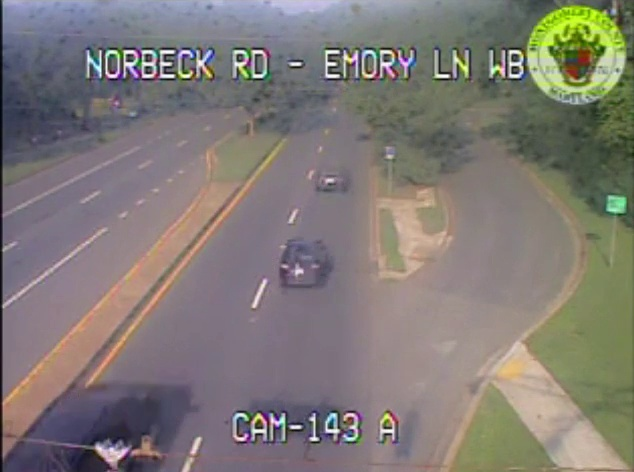car: (278, 239, 323, 284), (317, 168, 343, 192)
